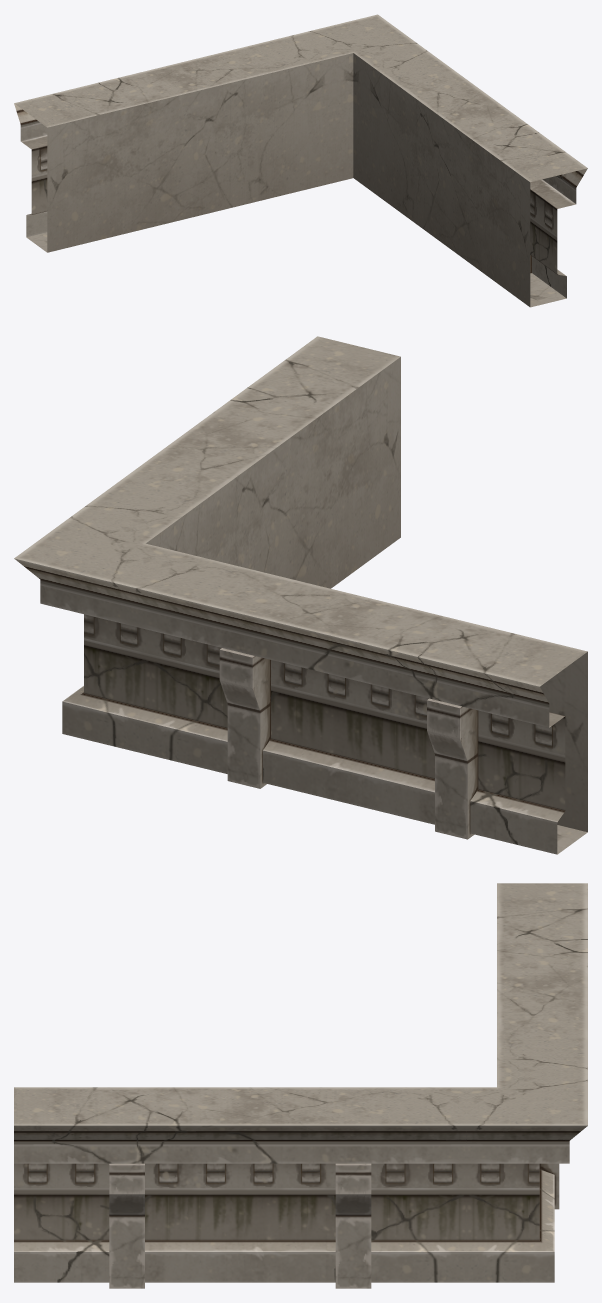
Rendered from ARC0110007.fbx.
3 views of the same model, one above another, from view 1: azimuth 30°, elevation 25°; view 2: azimuth 150°, elevation 25°; view 3: azimuth 270°, elevation 25° (orthographic). The views are drawn at different scales.
Parts seen in each view (by area): view 1: smARC0110007; view 2: smARC0110007; view 3: smARC0110007.
Part boxes in pixels (x1,y1,x2,y2): smARC0110007: (14, 14, 587, 307); smARC0110007: (14, 336, 587, 854); smARC0110007: (14, 883, 587, 1288).
Bounding box in the file's own units: 410 × 138 × 410.
1 material, 1 textured.
